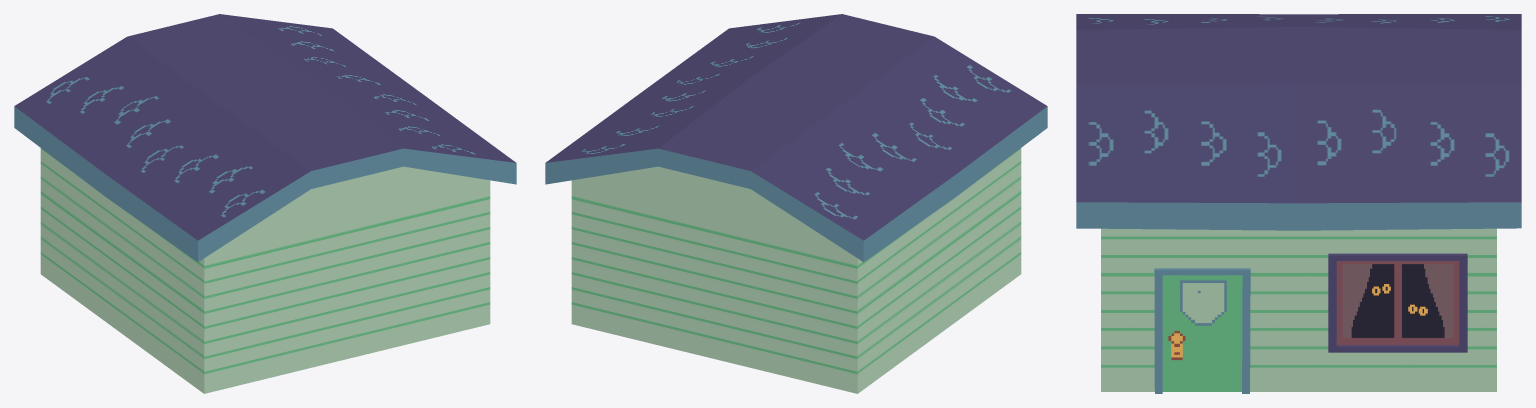
File: brattyhouse.glb
3 renders of one model, left to right at view 1: azimuth 30°, elevation 25°; view 2: azimuth 150°, elevation 25°; view 3: azimuth 270°, elevation 25°, orthographic. The views are drawn at different scales.
Parts seen in each view (by area): view 1: brathouse; view 2: brathouse; view 3: brathouse.
Boxes of the visible parts, bbox=[...] form: brathouse: bbox=[14, 14, 516, 393]; brathouse: bbox=[545, 14, 1047, 393]; brathouse: bbox=[1076, 14, 1521, 393].
Size of the model in its own units: 8.88 by 5.52 by 8.84.
1 material, 1 textured.
